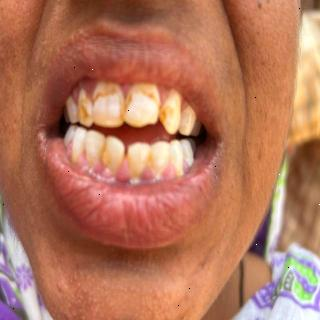LL1BC_healthy: (180, 139, 194, 165)
LLCI_mdecay: (127, 143, 151, 176)
LLC_mdecay: (170, 139, 184, 177)
LLLI_mdecay: (150, 140, 171, 170)
LR1BC_healthy: (64, 126, 76, 145)
LRCI_mdecay: (104, 135, 125, 171)
LRC_mdecay: (71, 127, 86, 160)
LRLI_mdecay: (85, 130, 105, 164)
ULCI_mdecay: (126, 83, 160, 127)
ULC_healthy: (181, 106, 196, 135)
ULLI_mdecay: (160, 89, 181, 134)
URCI_mdecay: (92, 82, 125, 127)
URC_healthy: (66, 97, 79, 122)
URLI_mdecay: (77, 89, 93, 127)
